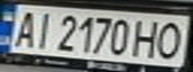0: (109, 16, 136, 56)
1: (75, 12, 96, 53)
2: (54, 11, 78, 53)
7: (90, 13, 115, 55)
A: (9, 7, 42, 50)
H: (130, 17, 163, 59)
I: (30, 9, 57, 50)
O: (151, 19, 190, 60)
